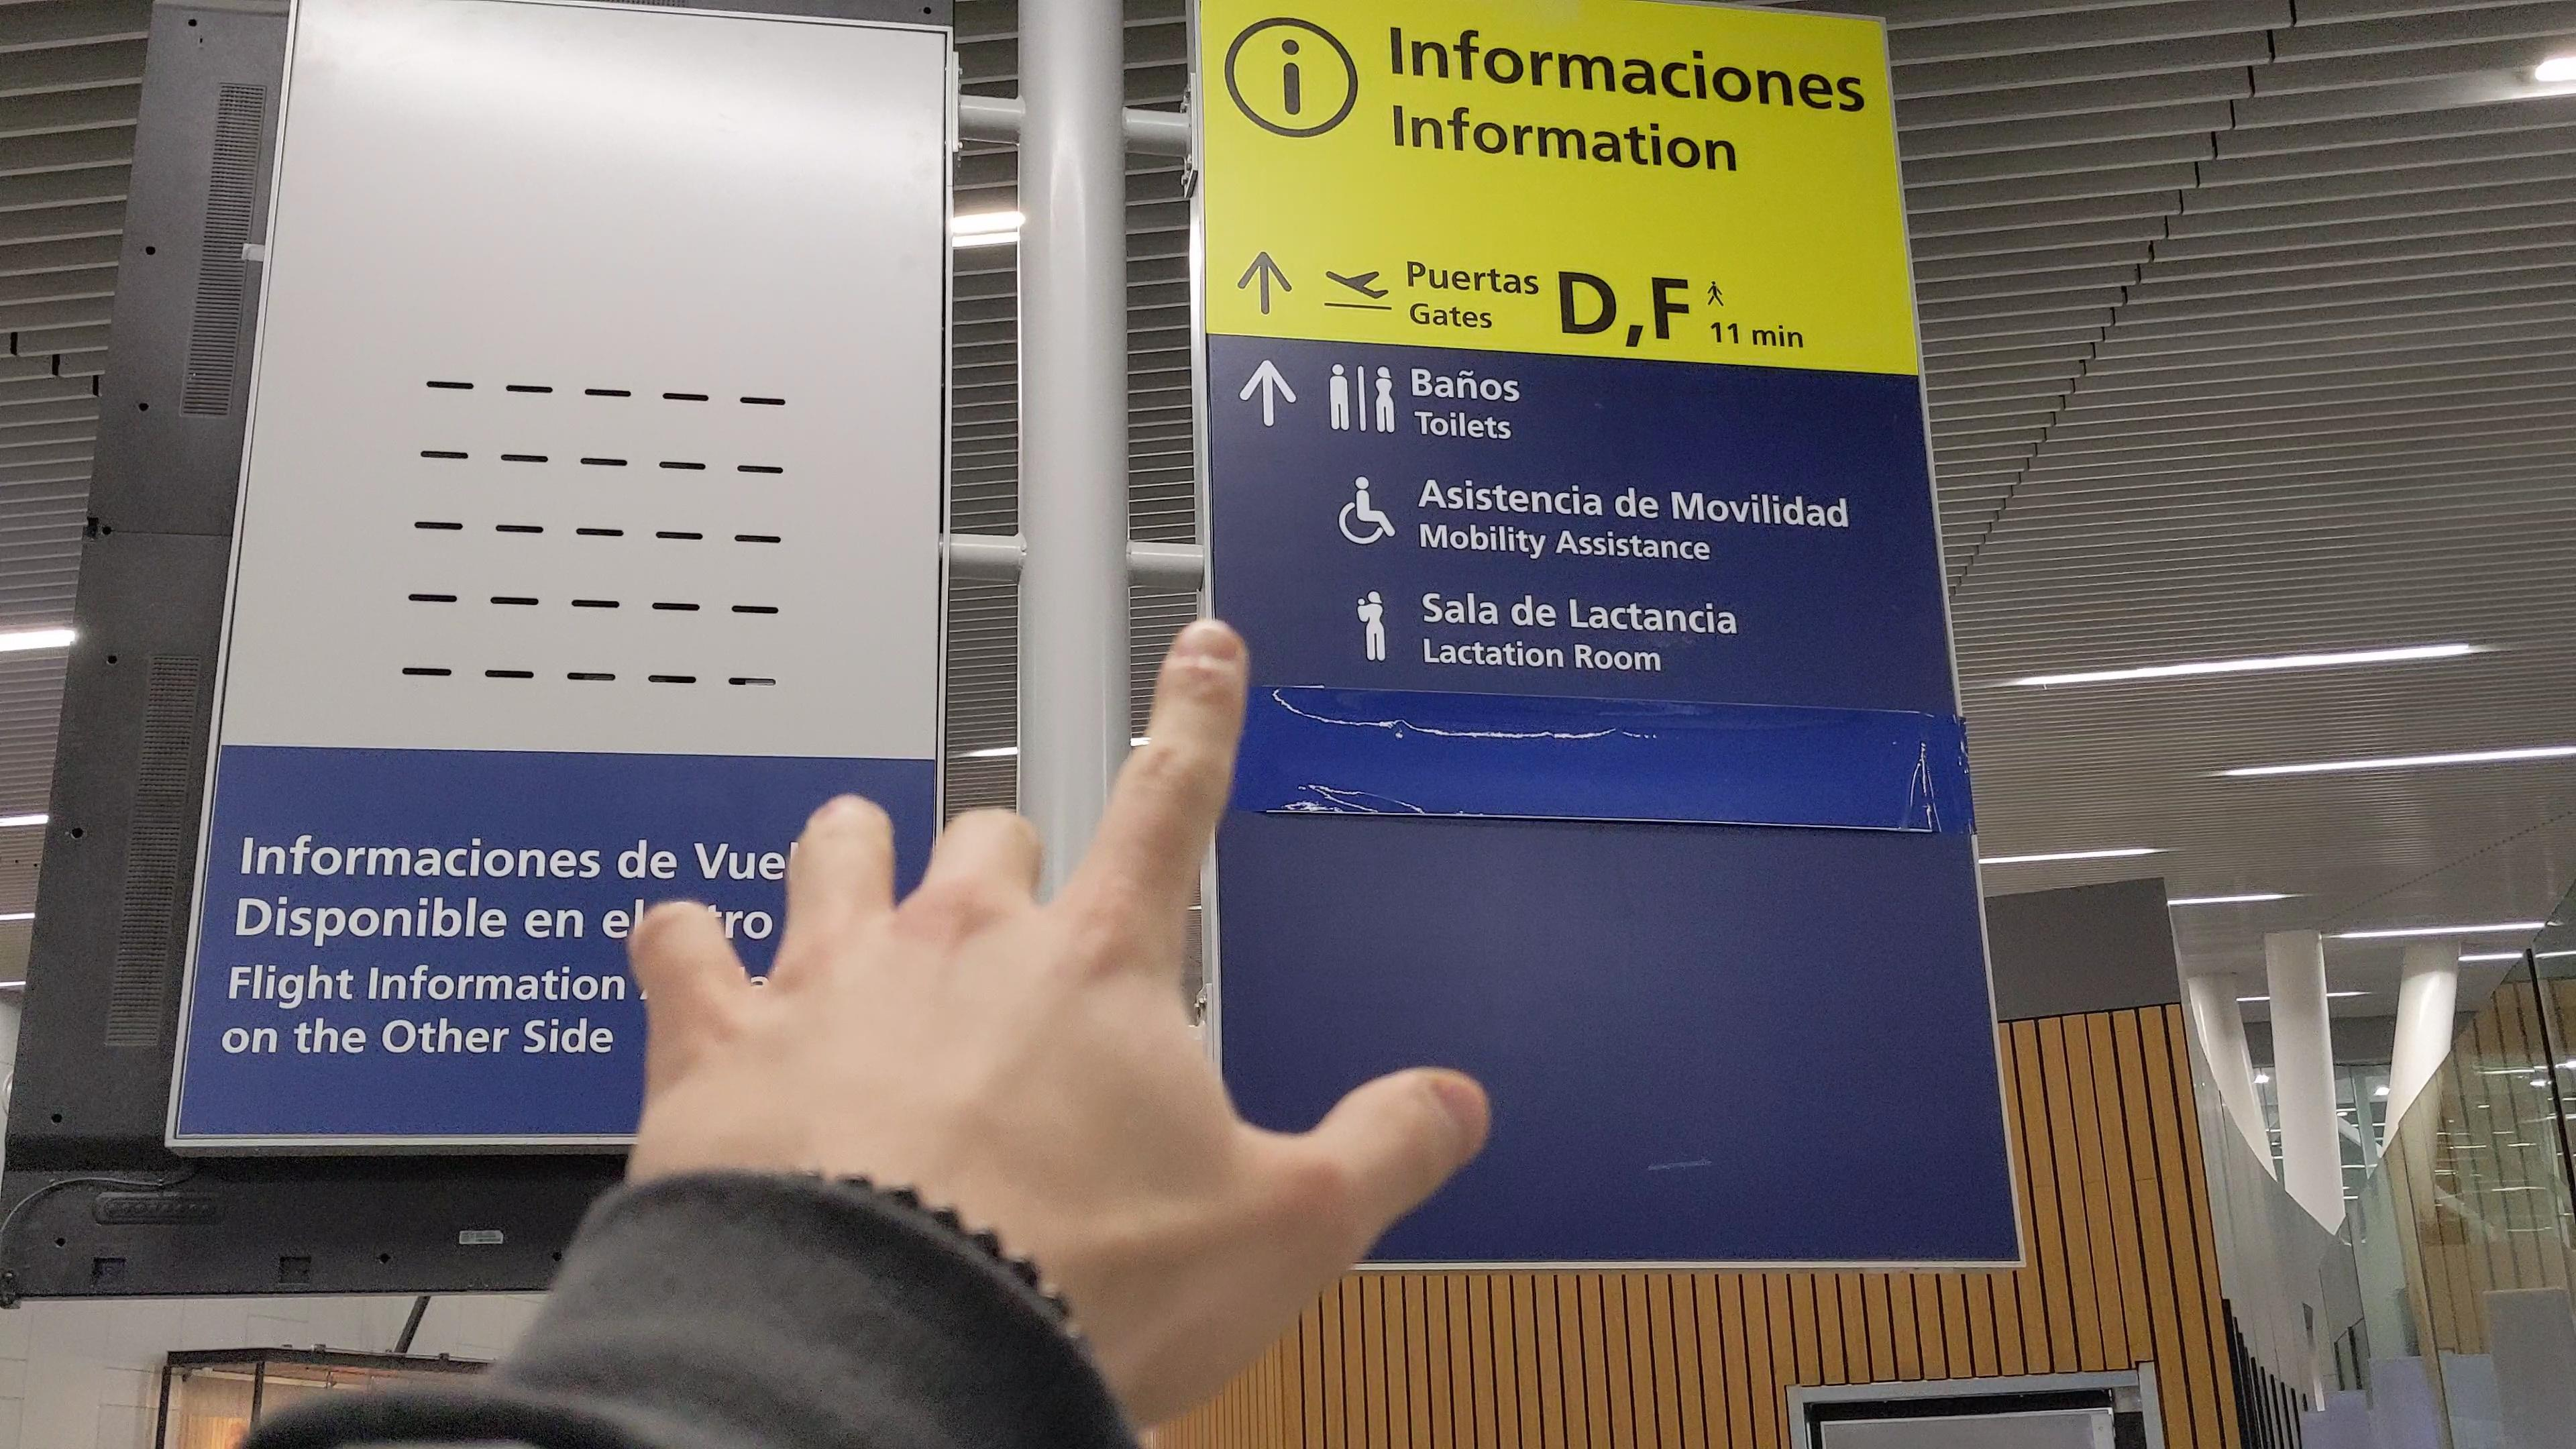airplane symbol: (1322, 262, 1392, 301)
bathrooms: (1323, 359, 1399, 437)
handicapped symbol: (1334, 472, 1398, 547)
thin up arrow: (1237, 356, 1302, 430), (1233, 248, 1295, 318)
